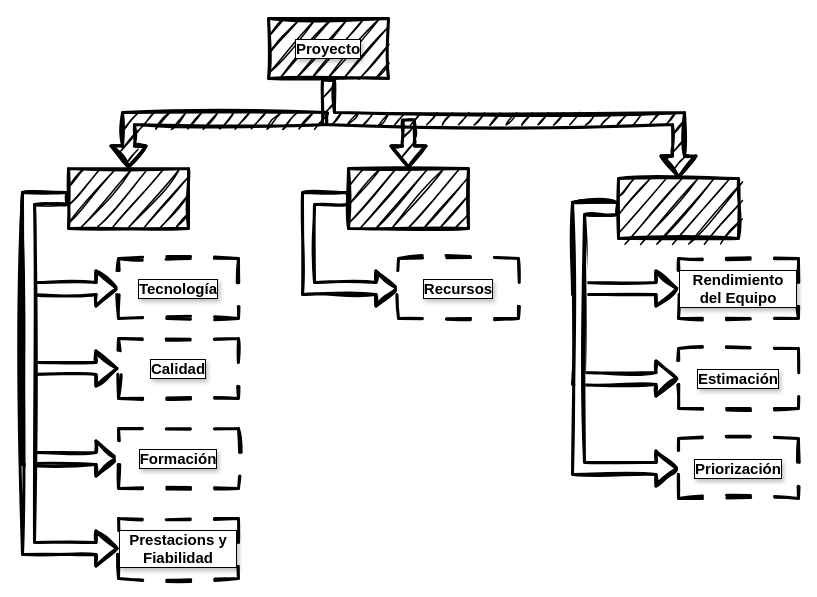
This 817x597 diagram has some shape labels left out. The shapes that lost their labels are listed below. From the top down, each one's box as (x1, y1, x2, y2) in pixels, then its label:
(66, 166, 190, 230): Técnico
(346, 166, 470, 230): Organizacional
(616, 176, 740, 240): Gestión de Proyecto
